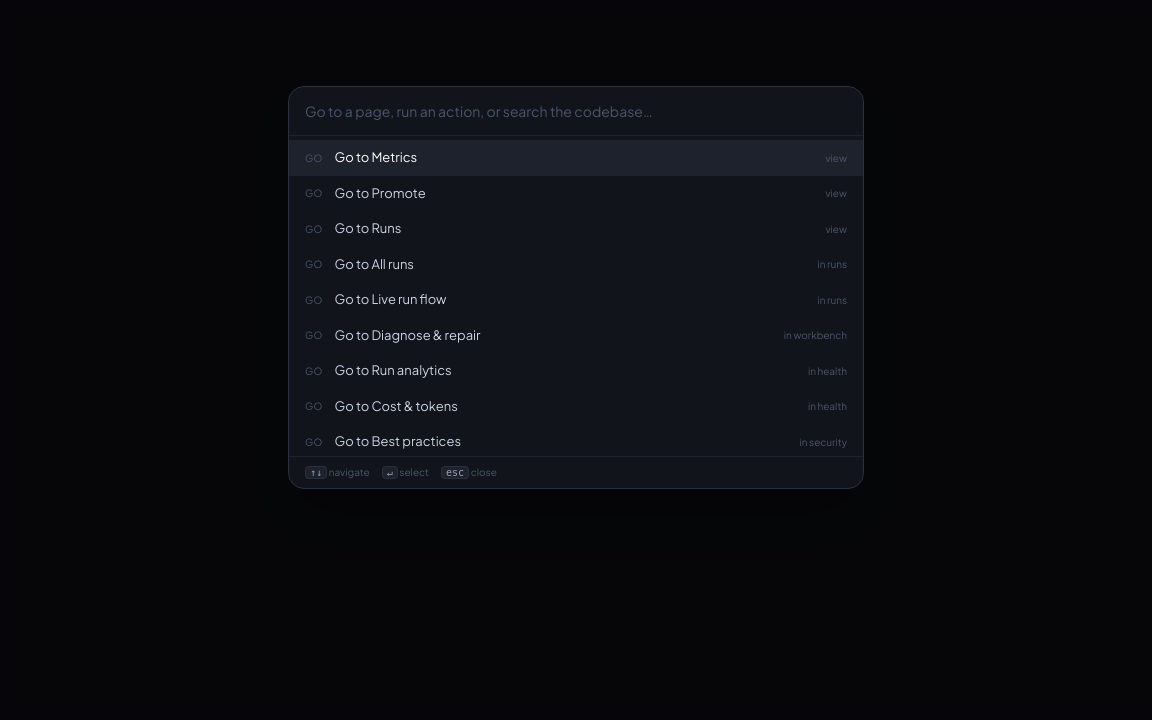
Test: CommandPalette finds pages by the name people actually type › finds Promote by its route id, deploy
Type "deploy" into the field with placeholder "Go to a page, run an action, or search the codebase…". click: (576, 112)
box: [289, 87, 863, 136]
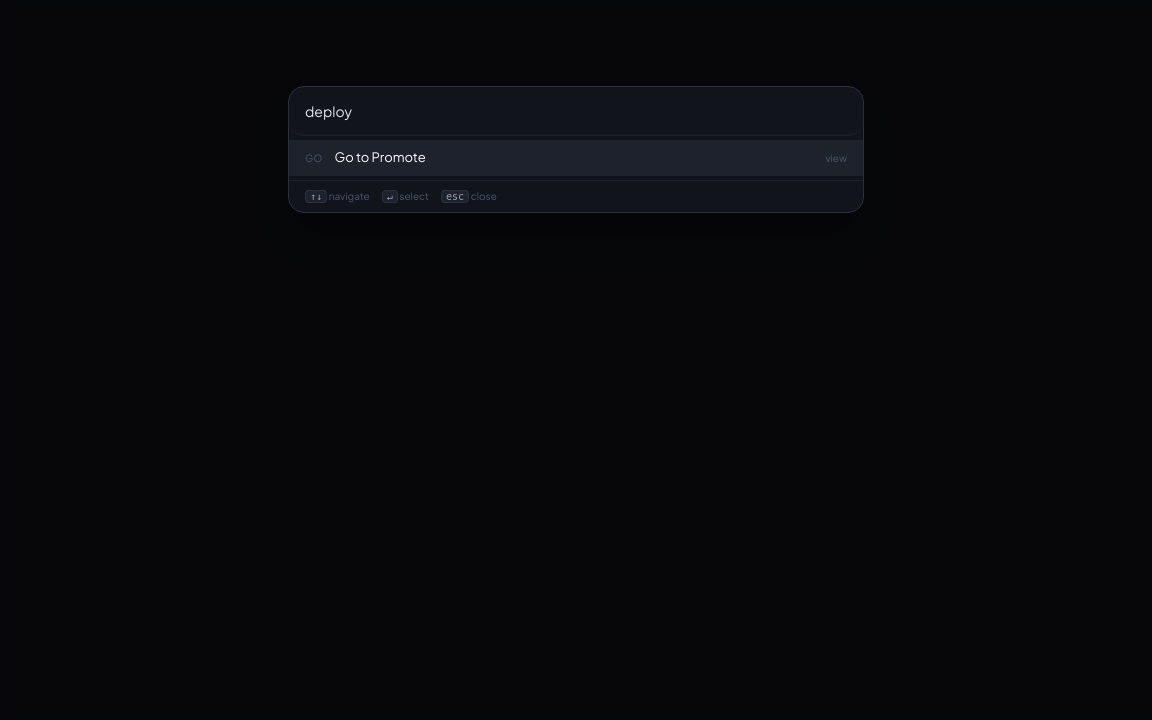
expect the button shows "Promote": met, box [289, 140, 863, 176]
